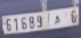1: (13, 17, 19, 31)
6: (21, 15, 28, 31), (5, 17, 12, 32), (71, 10, 77, 24)
8: (28, 15, 35, 29)
9: (36, 14, 43, 28)
h: (54, 14, 61, 25)
